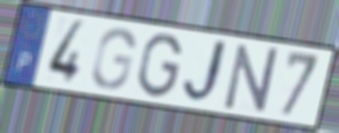4: (44, 16, 89, 88)
7: (281, 49, 322, 119)
G: (135, 32, 184, 99), (89, 26, 138, 92)
J: (181, 38, 234, 106)
N: (223, 43, 281, 115)
